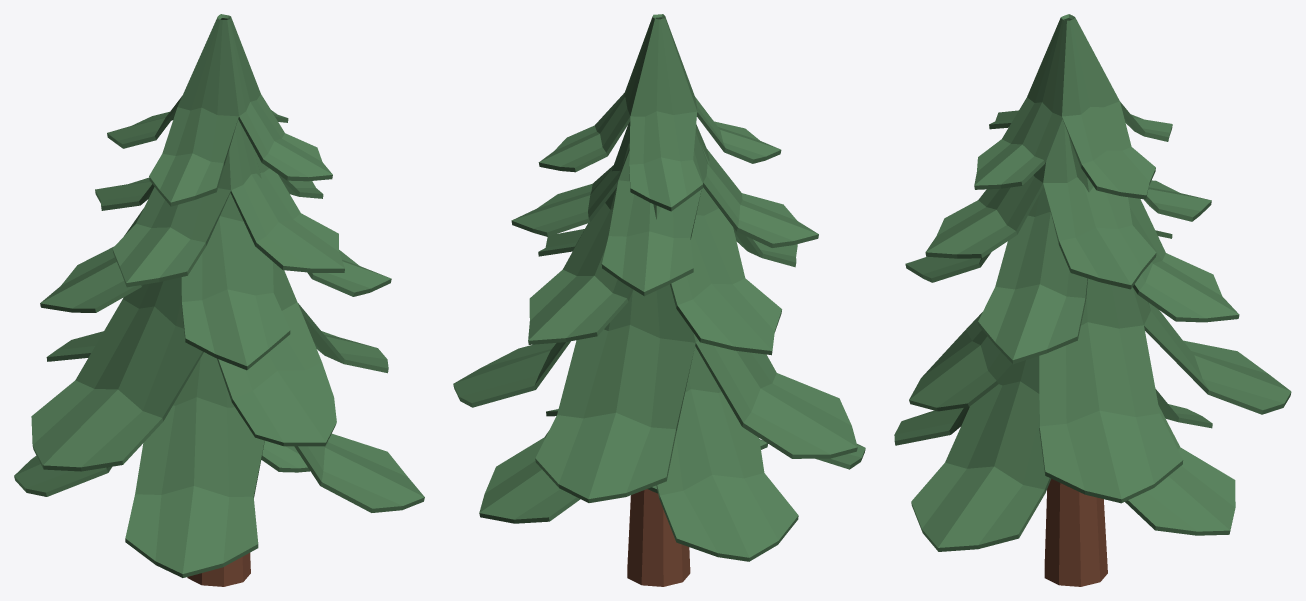
Rendered from agac.fbx.
The picture shows the model from 3 angles, left to right: view 1: azimuth 30°, elevation 25°; view 2: azimuth 150°, elevation 25°; view 3: azimuth 270°, elevation 25°; orthographic projection.
Visible parts, largest first — view 1: Plane.006; view 2: Plane.006; view 3: Plane.006.
Boxes of the visible parts, x1,y1,x2,y2 form: Plane.006: (14,14,424,586); Plane.006: (453,14,865,586); Plane.006: (894,14,1291,586).
Size of the model in its own units: 548 by 787 by 508.
